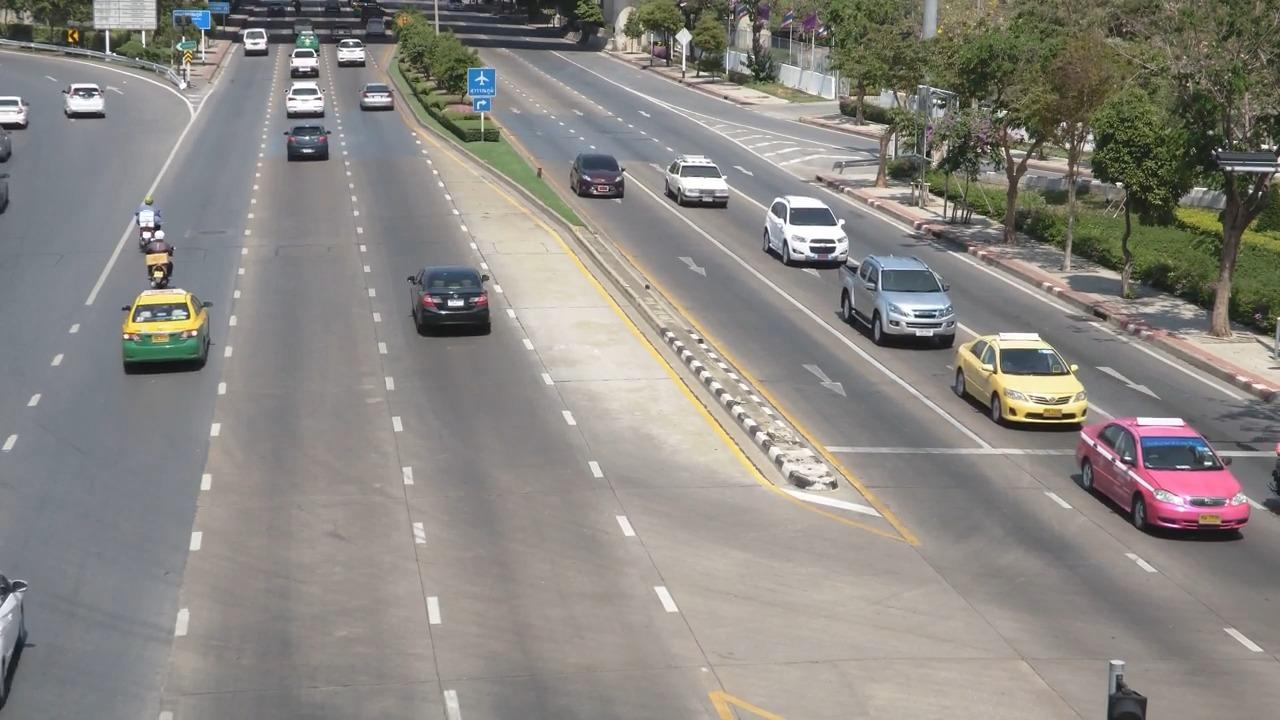CAR: (1074, 404, 1249, 549), (956, 327, 1092, 431), (837, 248, 958, 356), (112, 283, 222, 386), (398, 246, 501, 345), (757, 187, 858, 274), (658, 151, 736, 216), (563, 146, 635, 207), (276, 119, 341, 173), (56, 74, 116, 125), (276, 91, 342, 137), (285, 77, 335, 121), (334, 47, 382, 91), (353, 77, 404, 117), (239, 19, 283, 64), (336, 51, 380, 87), (285, 56, 328, 91), (0, 89, 26, 135), (355, 21, 389, 50), (297, 28, 328, 56)
MOTOR: (123, 186, 165, 255), (141, 229, 182, 295)
